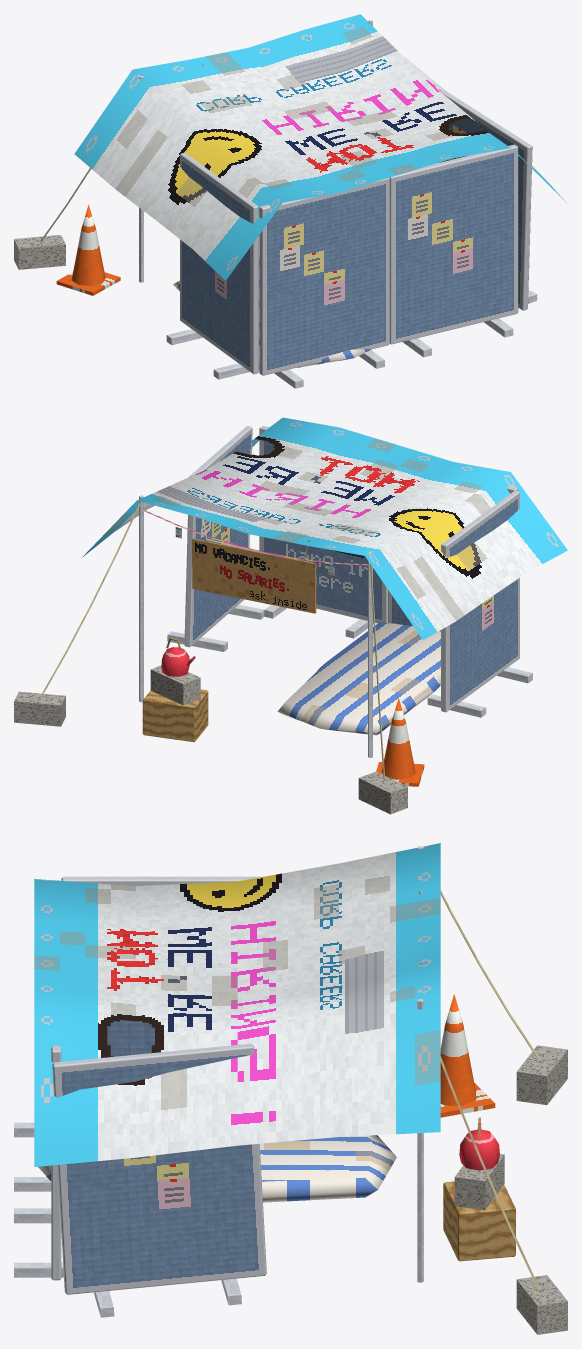
The model's file is s_raidertent.glb.
The picture shows the model from 3 angles, top to bottom: view 1: azimuth 30°, elevation 25°; view 2: azimuth 150°, elevation 25°; view 3: azimuth 270°, elevation 25°; orthographic projection. The views are drawn at different scales.
Parts seen in each view (by area): view 1: s_raidertent_mesh; view 2: s_raidertent_mesh; view 3: s_raidertent_mesh.
Part boxes in pixels (bbox=[...]): s_raidertent_mesh: bbox=[14, 14, 566, 388]; s_raidertent_mesh: bbox=[14, 417, 567, 814]; s_raidertent_mesh: bbox=[14, 843, 567, 1334].
Size of what is drawn, in the model's own units: 3.64 by 1.87 by 3.27.
5 materials, 5 textured.
